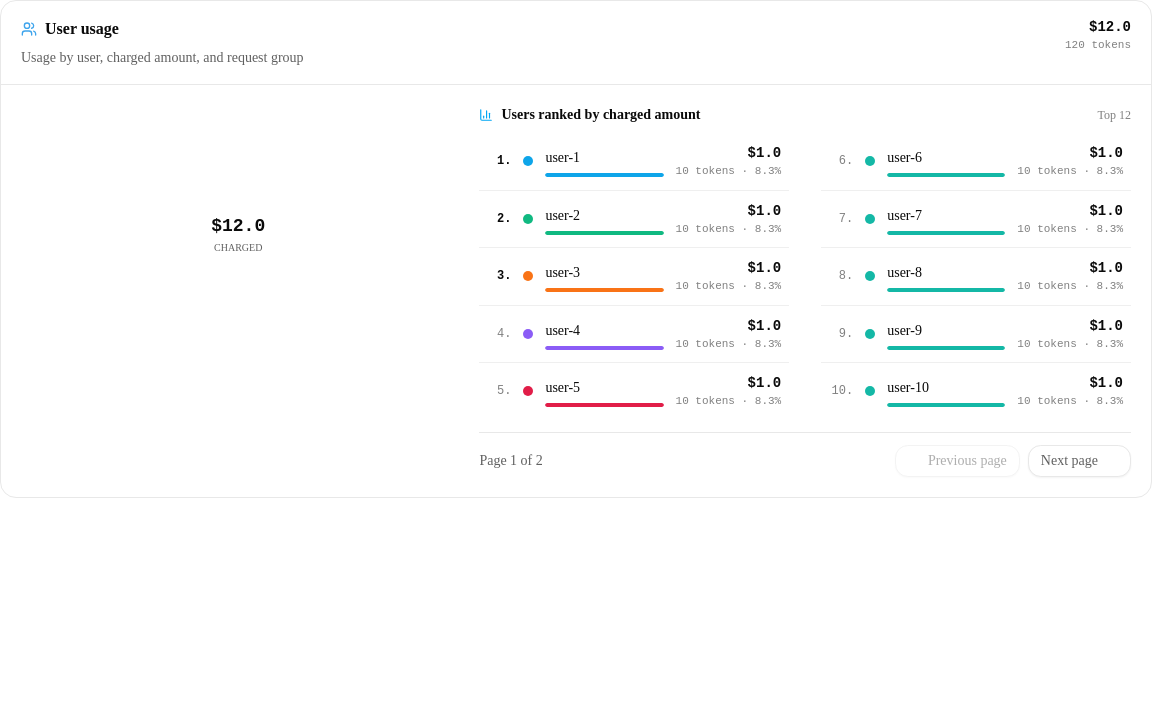
Test: rankings user usage section › paginates the user ranking in ten-row pages
The width and height of the screenshot is (1152, 720).
Expected: the text "Page 1 of 2" is shown, 479,450 -> 543,470
Click the button "Next page" at x=1079, y=460, box 1028,444 -> 1131,476
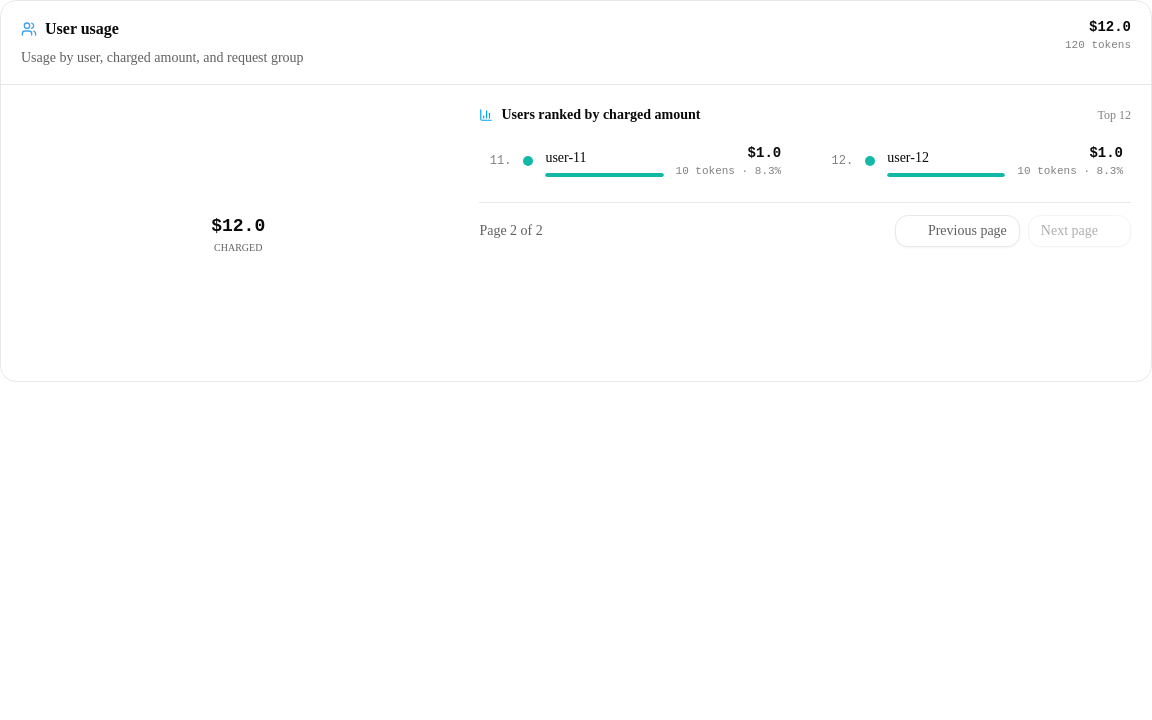
Expected: the text "Page 2 of 2" is shown, 479,220 -> 543,240
